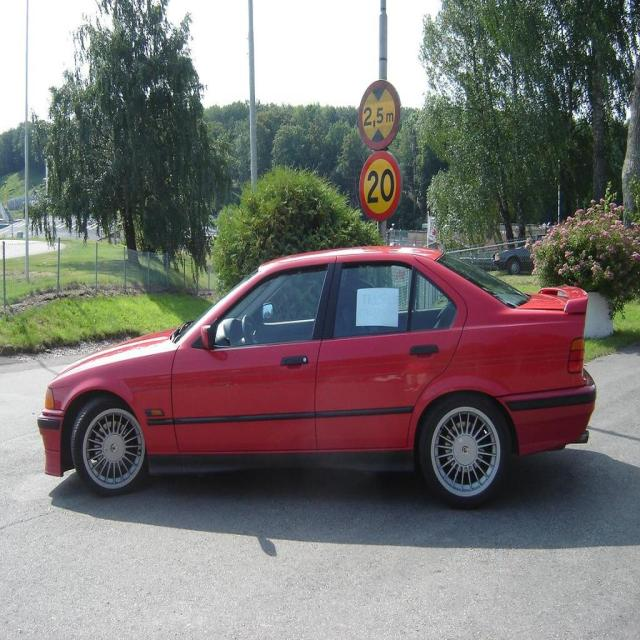car: (33, 239, 598, 491)
